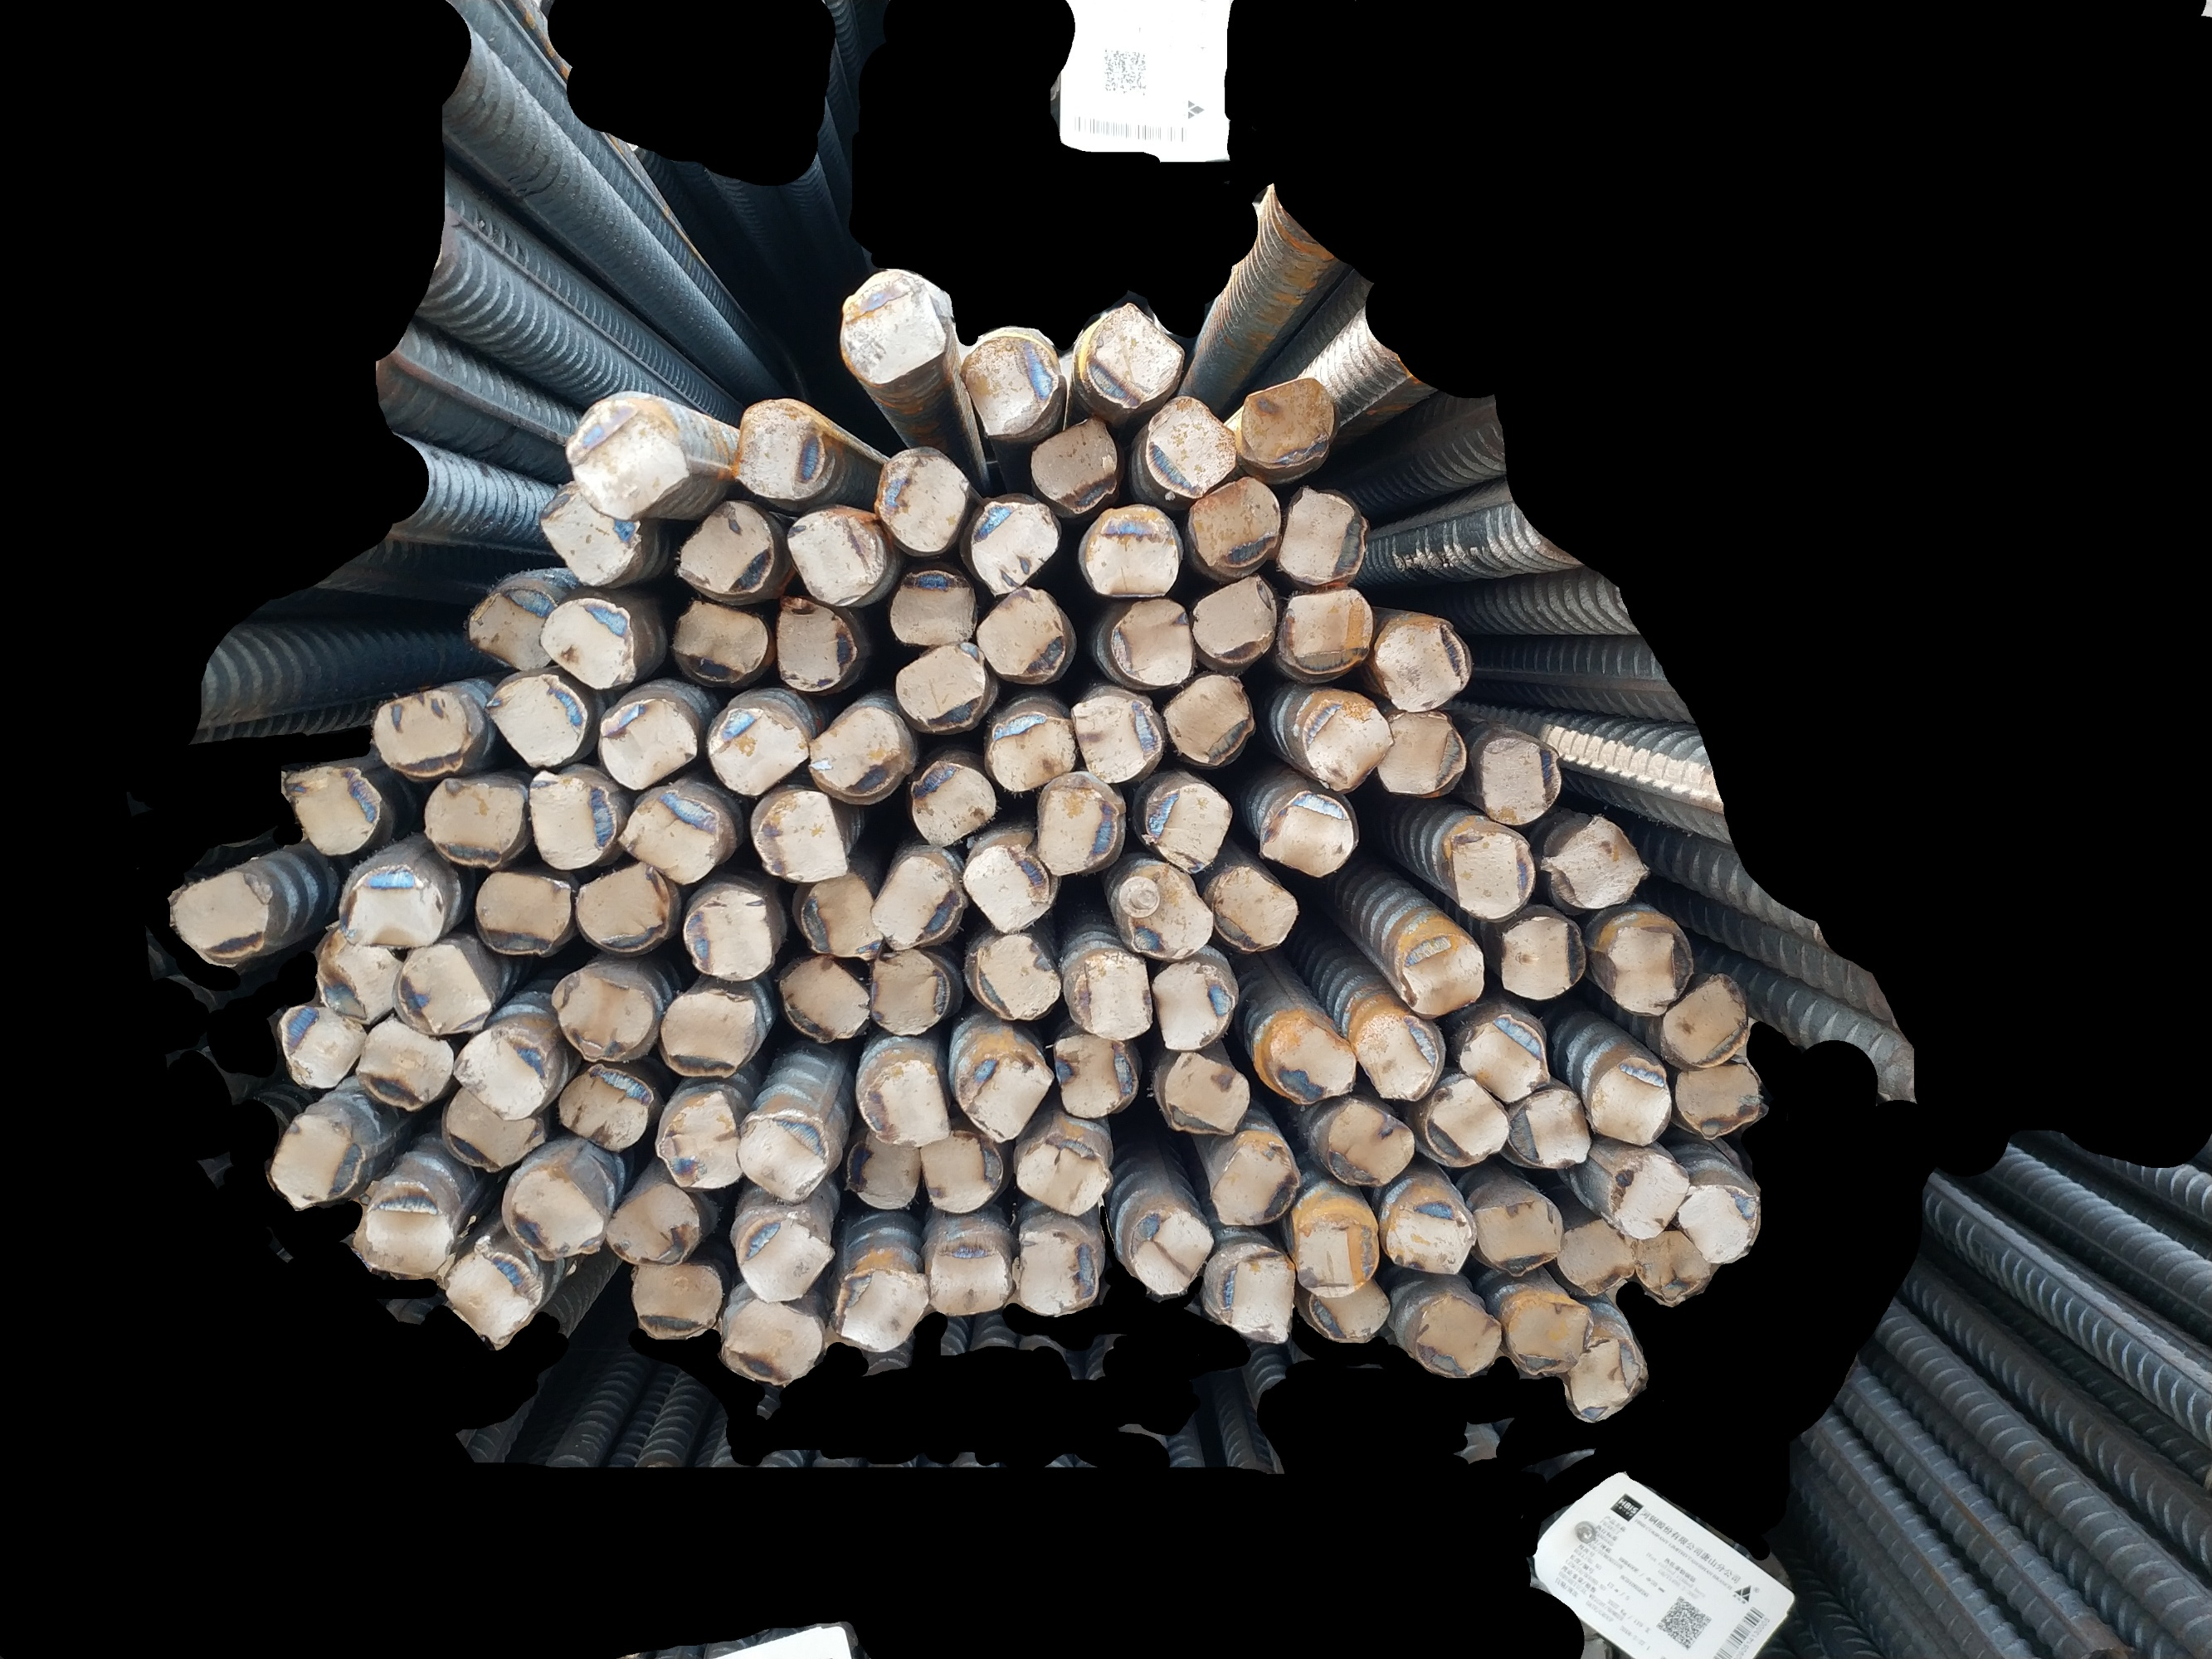rebar: (554, 394, 692, 525), (835, 263, 957, 389), (959, 326, 1069, 441), (530, 479, 647, 587), (1081, 298, 1189, 415), (1539, 809, 1658, 915), (439, 1232, 547, 1347), (432, 1072, 549, 1176), (711, 1286, 828, 1391), (779, 502, 891, 610), (608, 788, 727, 889), (725, 394, 833, 504), (870, 444, 974, 558), (544, 962, 659, 1065), (955, 1028, 1056, 1145), (1109, 859, 1218, 965), (519, 762, 619, 877), (535, 587, 641, 694), (499, 1161, 608, 1263), (1469, 718, 1571, 829), (446, 1021, 551, 1127), (804, 697, 910, 802), (1156, 662, 1259, 770), (275, 762, 385, 863), (675, 488, 776, 598), (730, 1206, 840, 1307), (659, 589, 772, 687), (478, 674, 593, 770), (1208, 1236, 1304, 1351), (389, 936, 495, 1039), (354, 1007, 457, 1114), (415, 772, 525, 871), (166, 871, 281, 965), (706, 695, 811, 798), (865, 847, 967, 951), (303, 918, 404, 1025), (267, 1107, 368, 1213), (354, 1176, 453, 1284), (1143, 392, 1241, 502), (1006, 1218, 1109, 1321), (598, 694, 702, 795), (959, 497, 1063, 598), (1377, 610, 1478, 714), (1600, 915, 1701, 1019), (1138, 774, 1238, 880), (971, 577, 1069, 685), (573, 859, 683, 955), (364, 687, 476, 781), (329, 863, 450, 950), (1065, 687, 1166, 789), (1201, 1126, 1304, 1227), (1299, 694, 1398, 798), (650, 1087, 748, 1194), (1143, 953, 1241, 1060), (1204, 859, 1306, 960), (1025, 416, 1124, 519), (1081, 502, 1180, 605), (657, 983, 760, 1082), (1238, 373, 1339, 472), (554, 1060, 657, 1157), (736, 1107, 833, 1209), (851, 1051, 953, 1148), (1259, 1011, 1361, 1108), (1123, 1197, 1217, 1304), (1187, 565, 1281, 671), (1028, 770, 1121, 878), (1185, 472, 1285, 572), (969, 925, 1065, 1028), (903, 749, 999, 852), (748, 789, 852, 884), (1443, 819, 1537, 924), (769, 587, 859, 695), (474, 863, 573, 960), (1391, 925, 1490, 1023), (1654, 974, 1752, 1073), (1455, 1009, 1555, 1107), (1415, 1073, 1513, 1173), (891, 638, 987, 739), (1260, 784, 1361, 880), (453, 587, 563, 674), (776, 950, 872, 1049), (1157, 1044, 1257, 1140), (830, 1263, 931, 1358), (1039, 1028, 1140, 1122), (1107, 592, 1199, 695), (1368, 706, 1471, 798), (1008, 1134, 1117, 1220), (1276, 474, 1353, 596), (680, 887, 777, 983), (981, 706, 1081, 800), (1464, 1188, 1565, 1281), (1063, 946, 1157, 1044), (1321, 1098, 1419, 1192), (1579, 1049, 1673, 1147), (1346, 1007, 1438, 1107), (879, 565, 985, 650), (274, 997, 370, 1091), (1600, 1150, 1694, 1246), (1407, 1291, 1504, 1384), (1281, 584, 1372, 683), (1670, 1056, 1771, 1145), (1673, 1173, 1766, 1269), (865, 943, 955, 1040), (628, 1255, 727, 1344), (1497, 910, 1590, 1004), (962, 842, 1053, 938), (1504, 1286, 1595, 1382), (917, 1124, 1008, 1218), (605, 1180, 701, 1269), (1384, 1190, 1480, 1279), (1283, 1213, 1382, 1298), (922, 1229, 1014, 1319), (1504, 1080, 1595, 1173), (795, 873, 884, 965), (1562, 1335, 1651, 1427), (1550, 1215, 1639, 1300), (1628, 1227, 1715, 1310), (840, 1127, 922, 1216), (1302, 1276, 1394, 1349)
